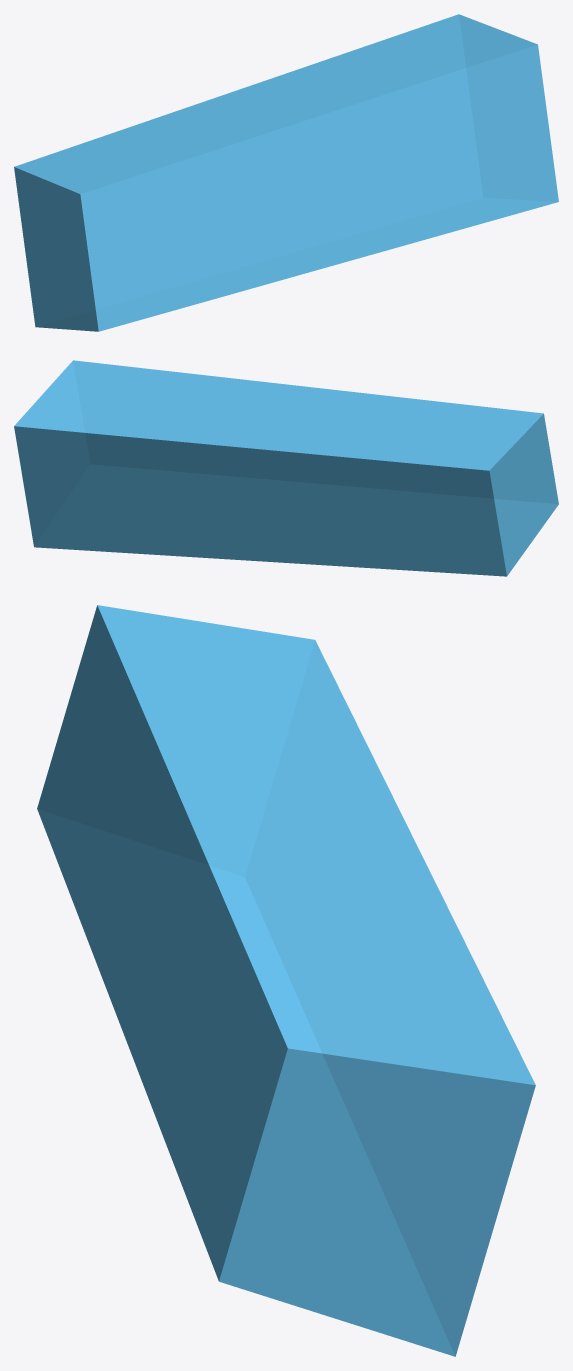
File: Event_420094457_HErechit_39.fbx
3 views of the same model, one above another, from view 1: azimuth 30°, elevation 25°; view 2: azimuth 150°, elevation 25°; view 3: azimuth 270°, elevation 25° (orthographic). The views are drawn at different scales.
Parts seen in each view (by area): view 1: Model; view 2: Model; view 3: Model.
Part boxes in pixels (bbox=[...]): Model: bbox=[14, 14, 558, 331]; Model: bbox=[14, 360, 558, 576]; Model: bbox=[37, 605, 535, 1356].
Size of the model in its own units: 1.47 by 0.5691 by 0.7529.
